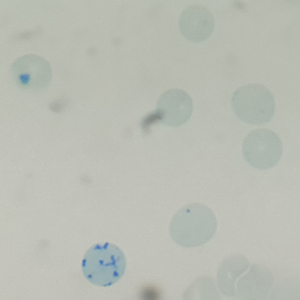aggregate reticulocyte: (80, 241, 129, 288)
erythrocyte: (7, 51, 55, 97), (240, 127, 284, 171), (154, 87, 195, 129), (177, 2, 216, 43), (215, 253, 250, 298), (235, 262, 274, 300)
punctate reticulocyte: (167, 202, 220, 249), (229, 82, 277, 128)
